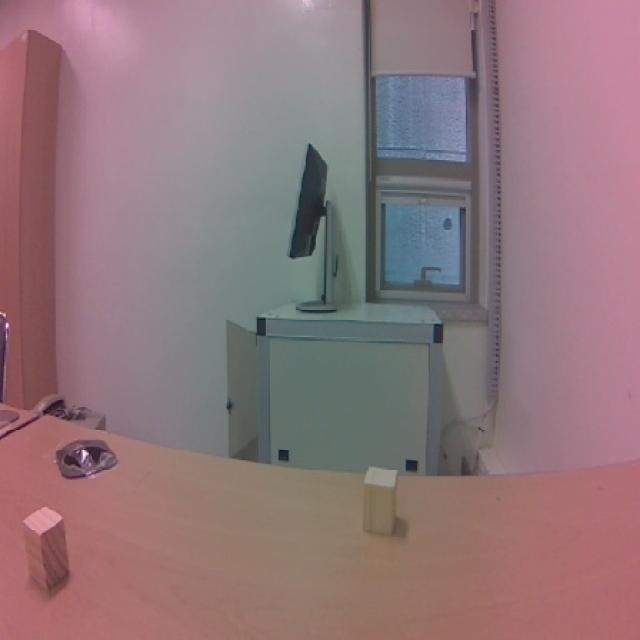obstacle: (19, 503, 74, 597), (350, 466, 410, 542)
